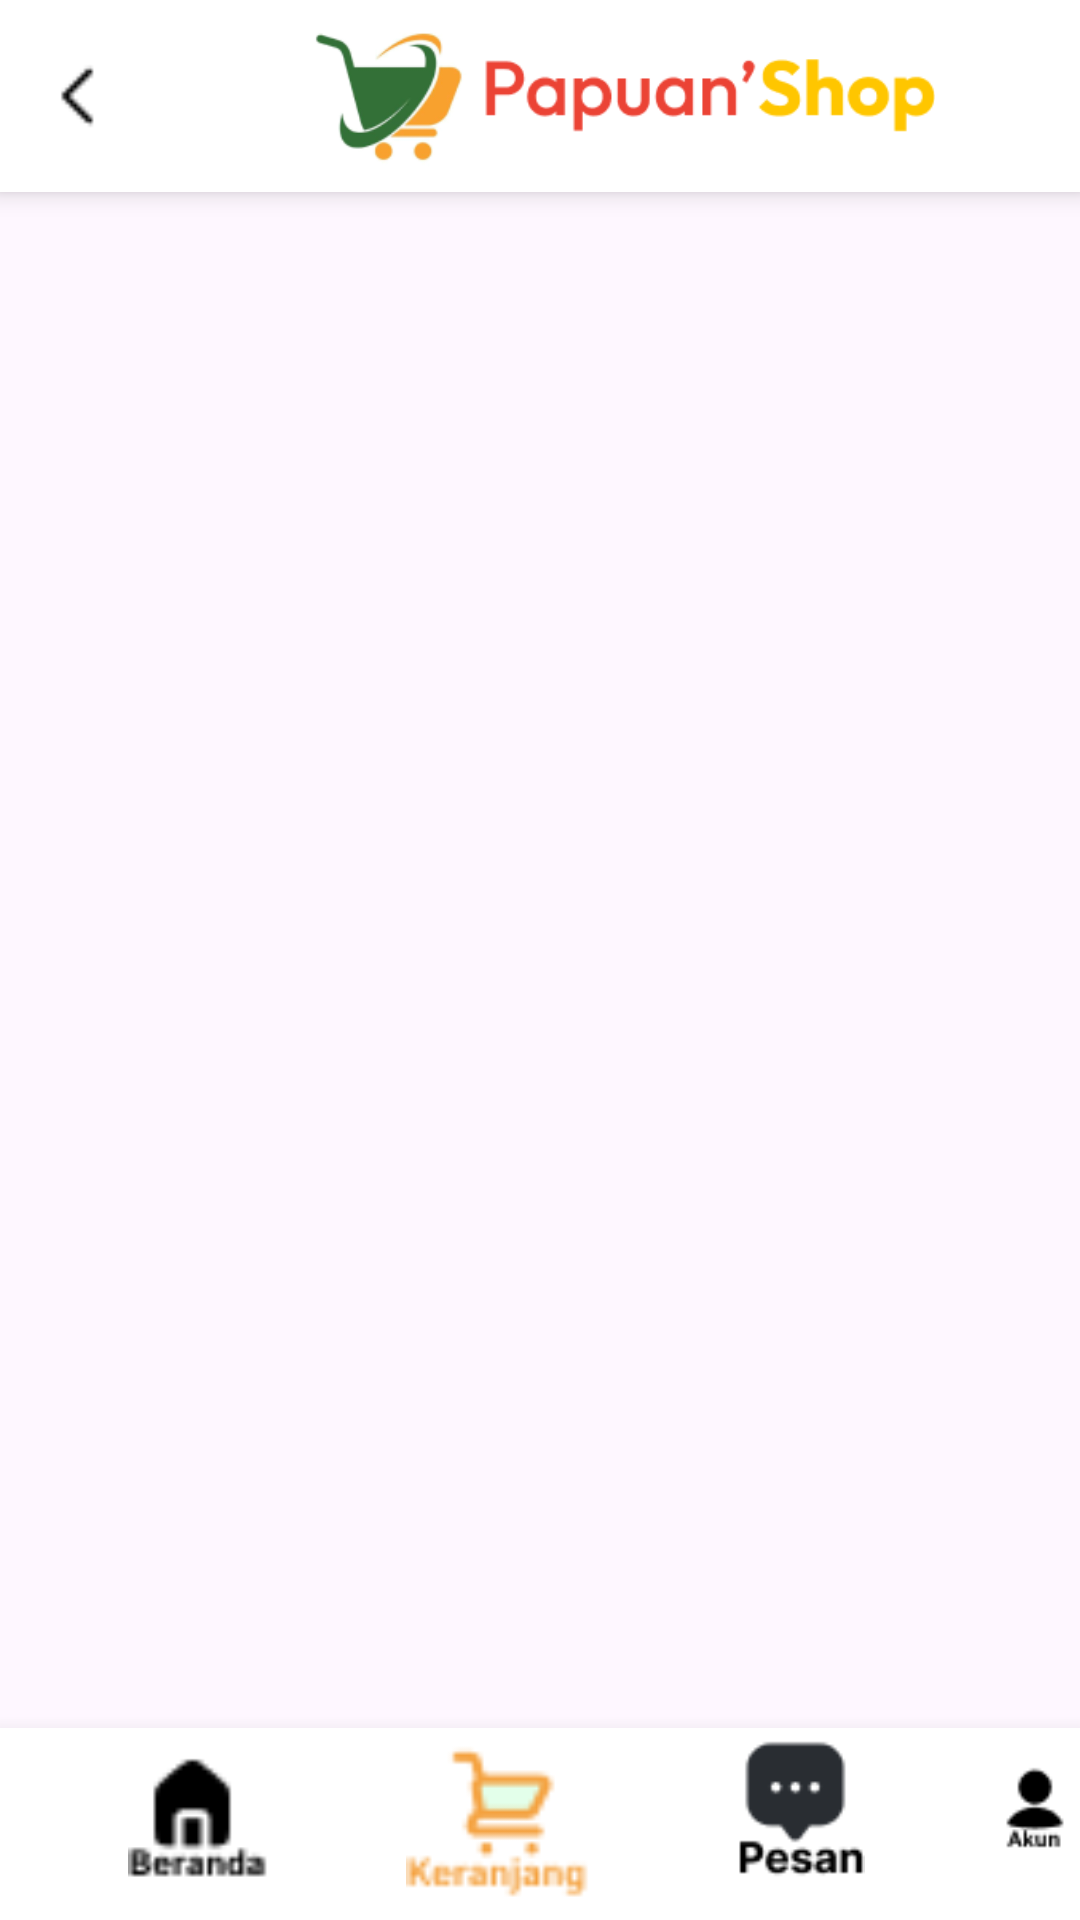

Where to tap for icons on this 1080×1920 app screen, as point (x, y):
back: point (77, 96)
